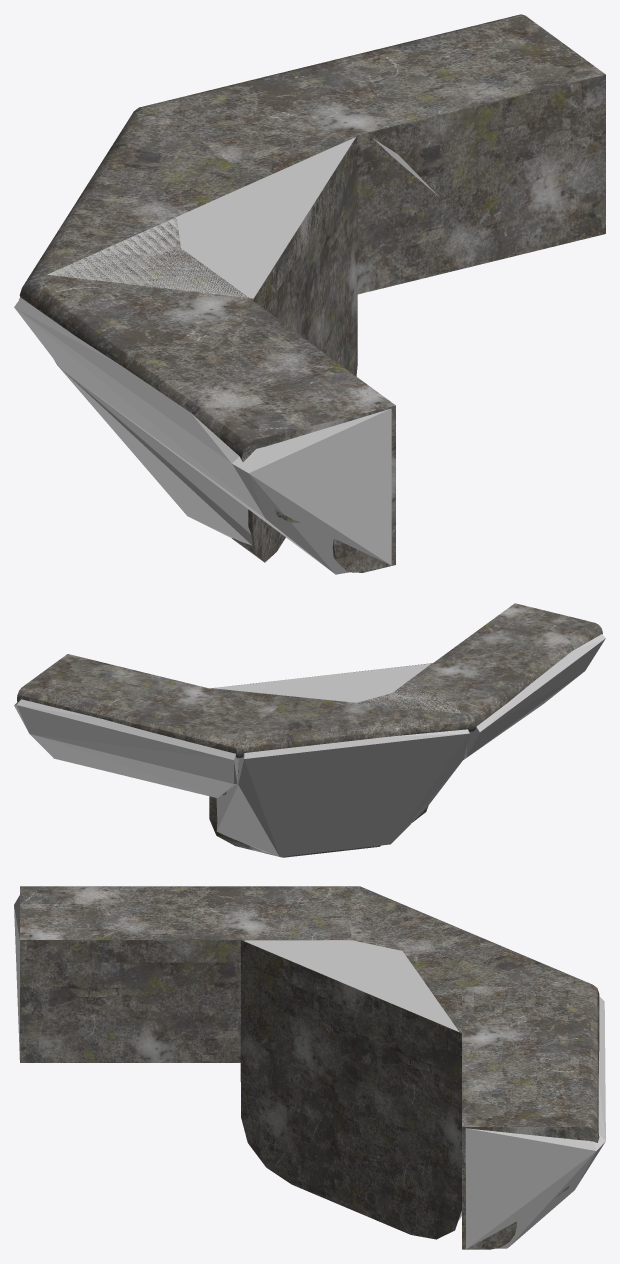
Rendered from SM_CastleTower_Floor_Seam_A_03.fbx.
3 renders of one model, top to bottom at view 1: azimuth 30°, elevation 25°; view 2: azimuth 150°, elevation 25°; view 3: azimuth 270°, elevation 25°, orthographic. The views are drawn at different scales.
Visible parts, largest first — view 1: SM_CastleTower_Floor_Seam_A_03, SM_CastleTower_Floor_Seam_A_03_ConvexHulls; view 2: SM_CastleTower_Floor_Seam_A_03_ConvexHulls, SM_CastleTower_Floor_Seam_A_03; view 3: SM_CastleTower_Floor_Seam_A_03, SM_CastleTower_Floor_Seam_A_03_ConvexHulls.
Part boxes in pixels (box(x1,y1,x2,y2)): SM_CastleTower_Floor_Seam_A_03: box(19, 14, 605, 572); SM_CastleTower_Floor_Seam_A_03_ConvexHulls: box(14, 137, 438, 574); SM_CastleTower_Floor_Seam_A_03_ConvexHulls: box(14, 634, 605, 856); SM_CastleTower_Floor_Seam_A_03: box(17, 603, 602, 857); SM_CastleTower_Floor_Seam_A_03: box(20, 886, 599, 1249); SM_CastleTower_Floor_Seam_A_03_ConvexHulls: box(14, 893, 605, 1248).
Bounding box in the file's own units: 536 × 536 × 223.
